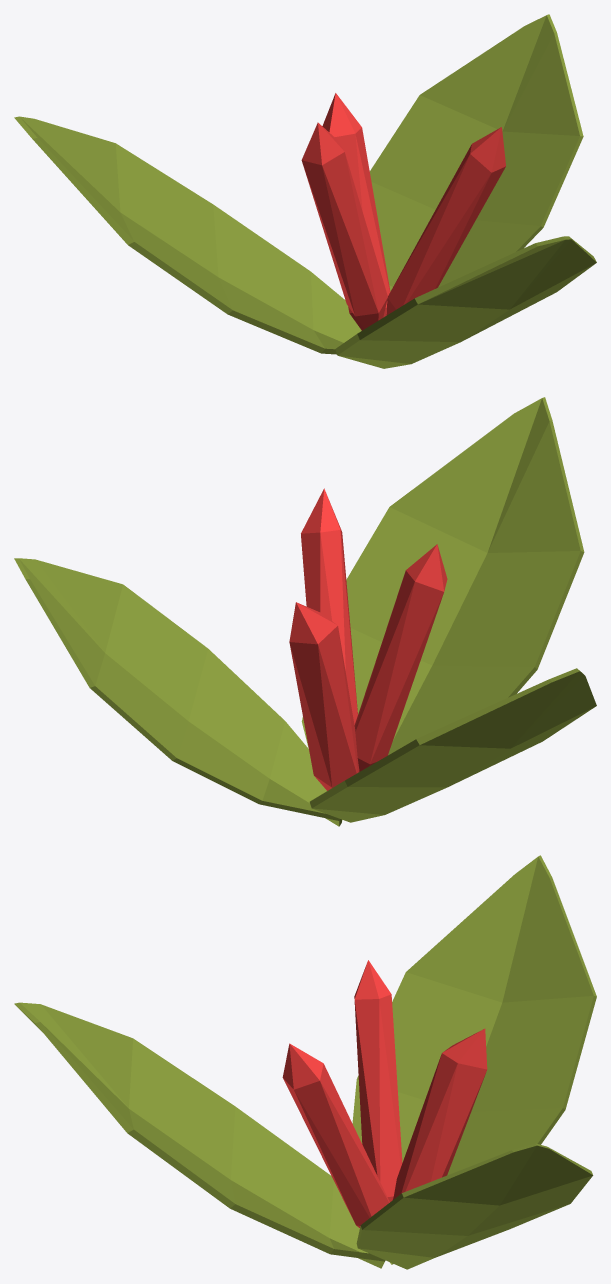
File: island_plant_1.fbx
The picture shows the model from 3 angles, top to bottom: view 1: azimuth 30°, elevation 25°; view 2: azimuth 150°, elevation 25°; view 3: azimuth 270°, elevation 25°; orthographic projection. The views are drawn at different scales.
Parts seen in each view (by area): view 1: Cube.000; view 2: Cube.000; view 3: Cube.000.
Boxes of the visible parts, x1,y1,x2,y2 form: Cube.000: (14, 14, 596, 368); Cube.000: (14, 397, 596, 826); Cube.000: (14, 855, 596, 1269).
Bounding box in the file's own units: 1.42 × 0.6857 × 1.32.
